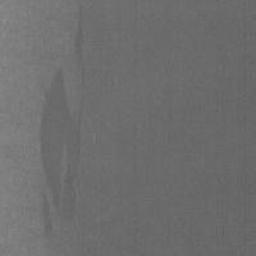Inclusion: (38, 12, 88, 234)
